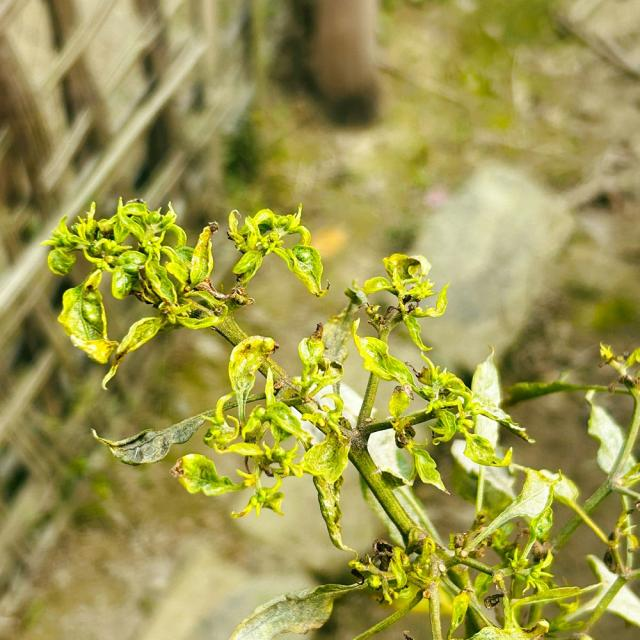Chilli_Leaf_Curl: (41, 195, 638, 638), (225, 202, 329, 299), (359, 252, 450, 352)
